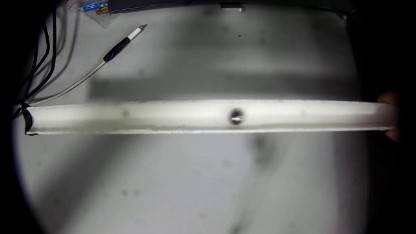gangzhu: (226, 109, 244, 126)
